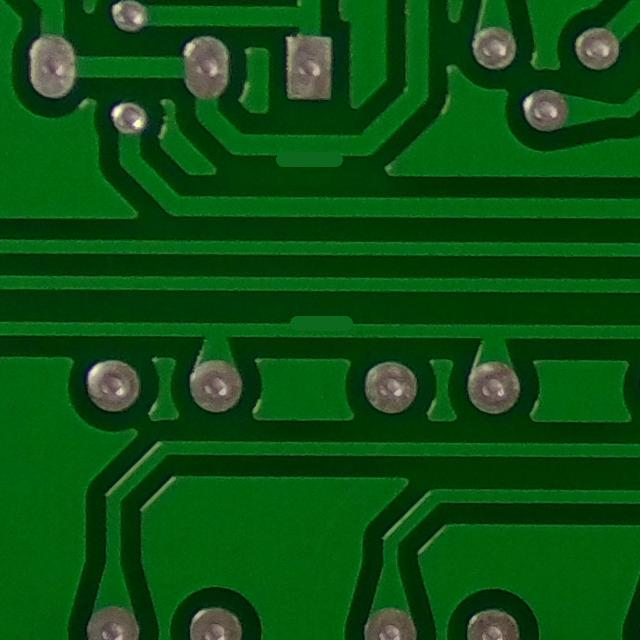spur: (272, 300, 369, 340)
